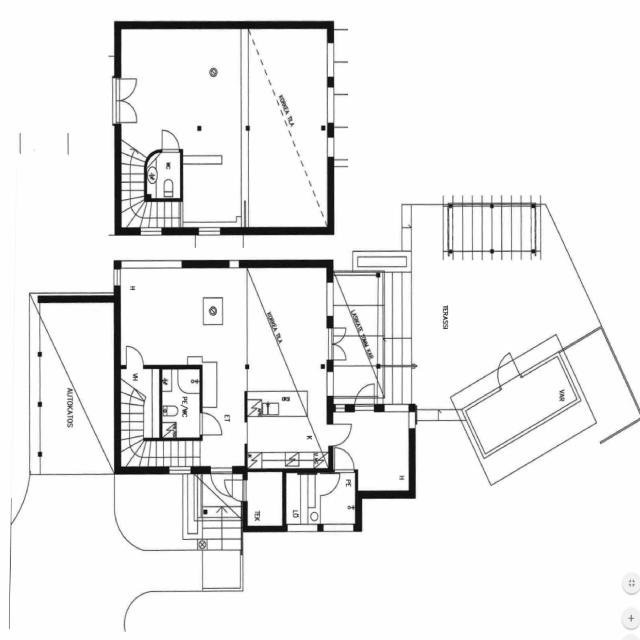door: (500, 341, 529, 386), (211, 466, 232, 498), (114, 100, 140, 122), (114, 78, 140, 100), (355, 382, 374, 412), (328, 424, 352, 446), (200, 413, 222, 435), (224, 480, 247, 501), (335, 447, 354, 472), (319, 474, 340, 495), (126, 346, 143, 369), (162, 130, 179, 153), (327, 328, 347, 344), (327, 344, 347, 360)
